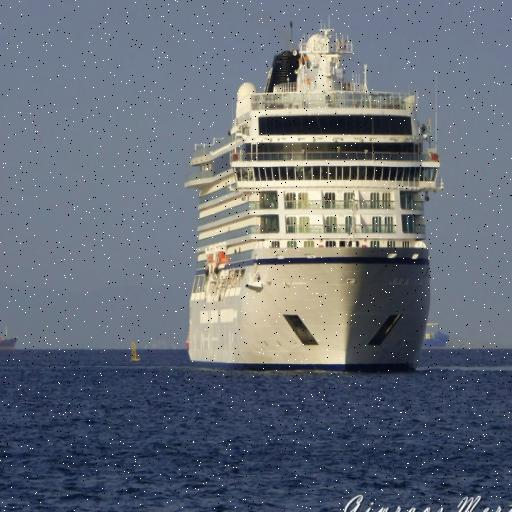cruises: (180, 14, 452, 381)
